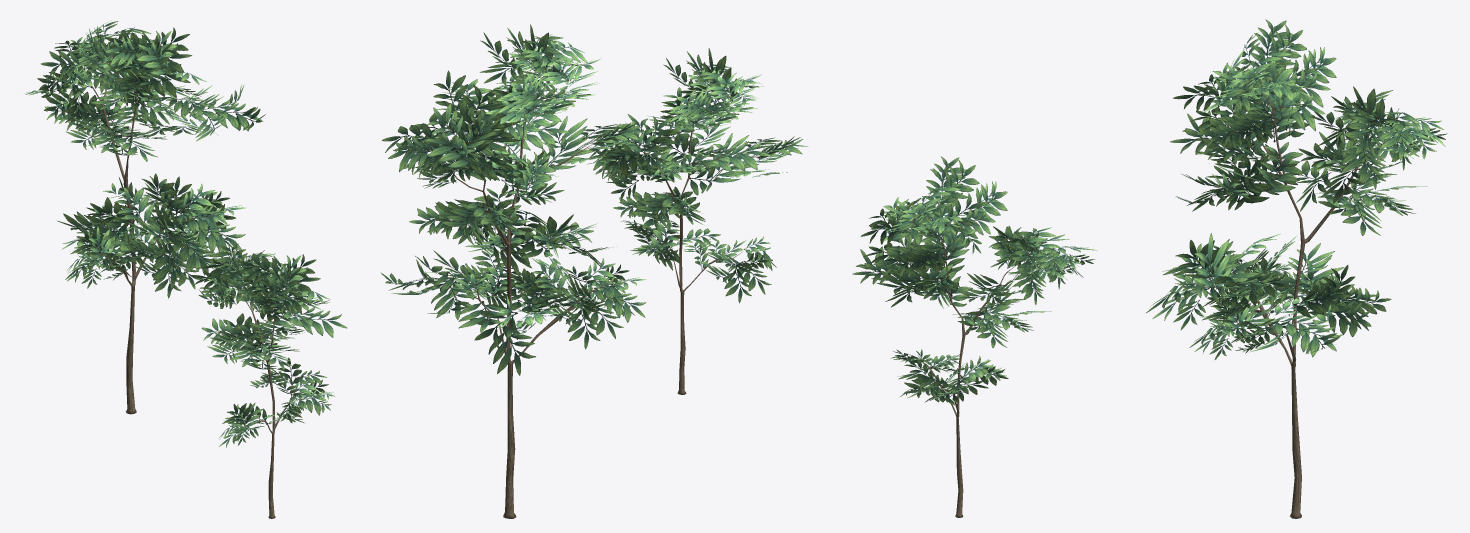
The model's file is Magnolia_Seeding_2-3.fbx.
3 renders of one model, left to right at view 1: azimuth 30°, elevation 25°; view 2: azimuth 150°, elevation 25°; view 3: azimuth 270°, elevation 25°, orthographic. The views are drawn at different scales.
Parts seen in each view (by area): view 1: magnolia_Seeding_3, magnolia_Seeding_2; view 2: magnolia_Seeding_3, magnolia_Seeding_2; view 3: magnolia_Seeding_3, magnolia_Seeding_2.
Part boxes in pixels (x1=…): magnolia_Seeding_3: x1=25, y1=20, x2=265, y2=414; magnolia_Seeding_2: x1=191, y1=240, x2=347, y2=518; magnolia_Seeding_3: x1=381, y1=24, x2=646, y2=518; magnolia_Seeding_2: x1=587, y1=48, x2=807, y2=394; magnolia_Seeding_3: x1=1146, y1=19, x2=1447, y2=518; magnolia_Seeding_2: x1=852, y1=156, x2=1097, y2=517.
Bounding box in the file's own units: 186 × 359 × 418.
2 materials, 2 textured.
